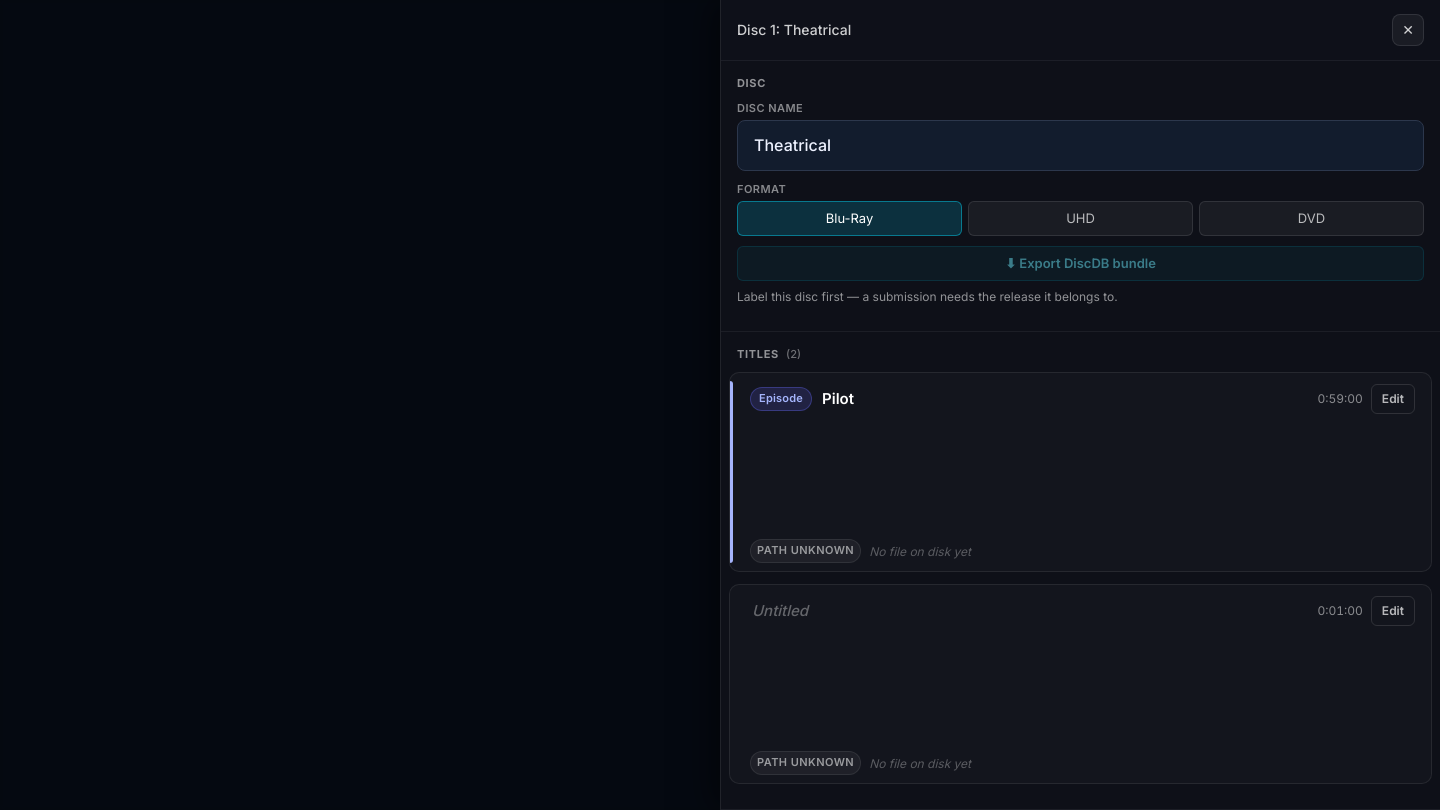
it: LibraryDiscDrawerComponent (Phase 4) › #601 view/edit toggle › clicking Edit switches the row to edit mode (inputs render, button reads "Done")
What coordinates should you click on to do the following:
click the button with class "library-disc-drawer__title-edit-btn" next to "0:59:00"
I would click on:
 (1393, 399)
Its box is [1371,384,1415,413].
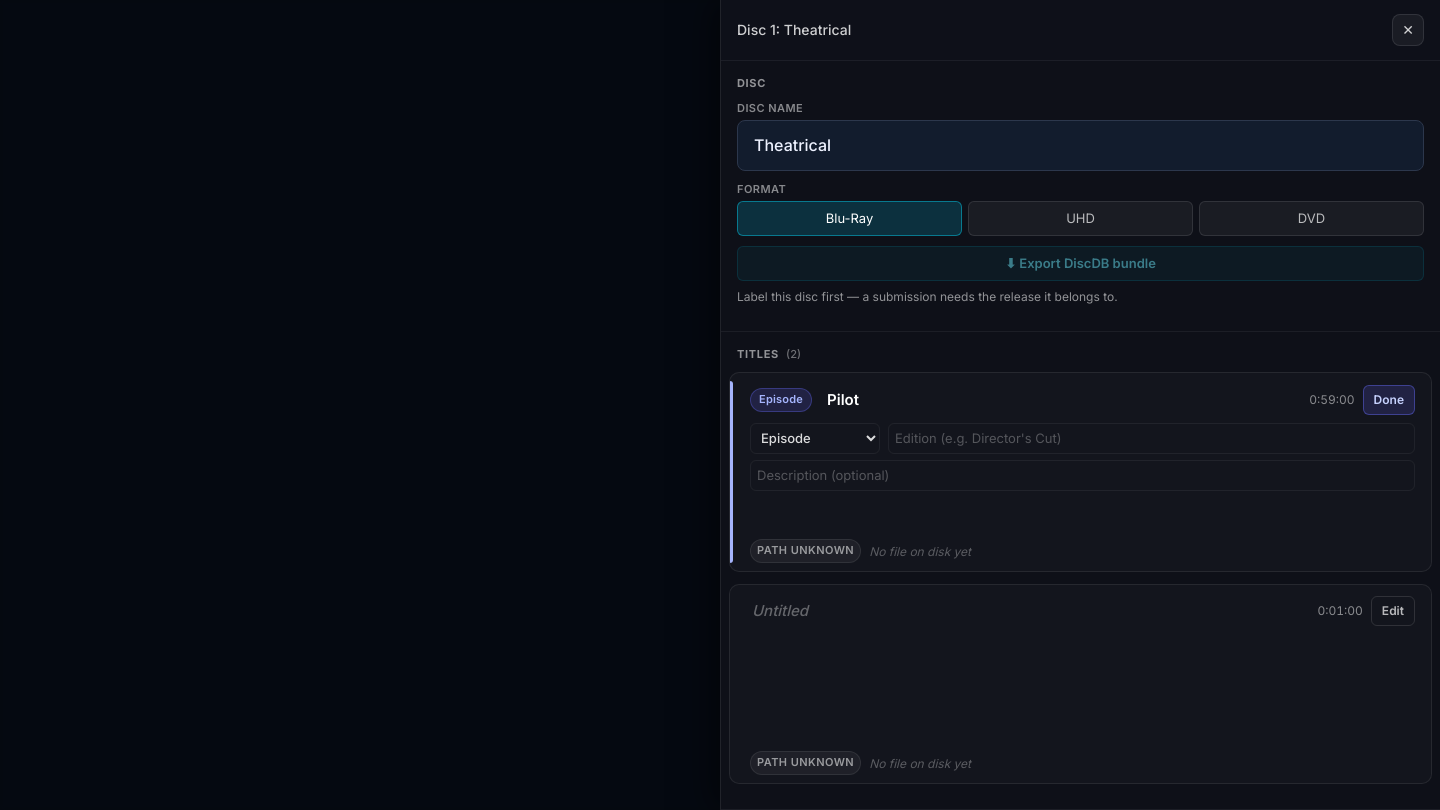
Expected: the field with class "library-disc-drawer__title-title" is shown, [820,382,1301,416]
Expected: the button with class "library-disc-drawer__title-edit-btn--done" reads "Done", [1363,385,1415,414]
